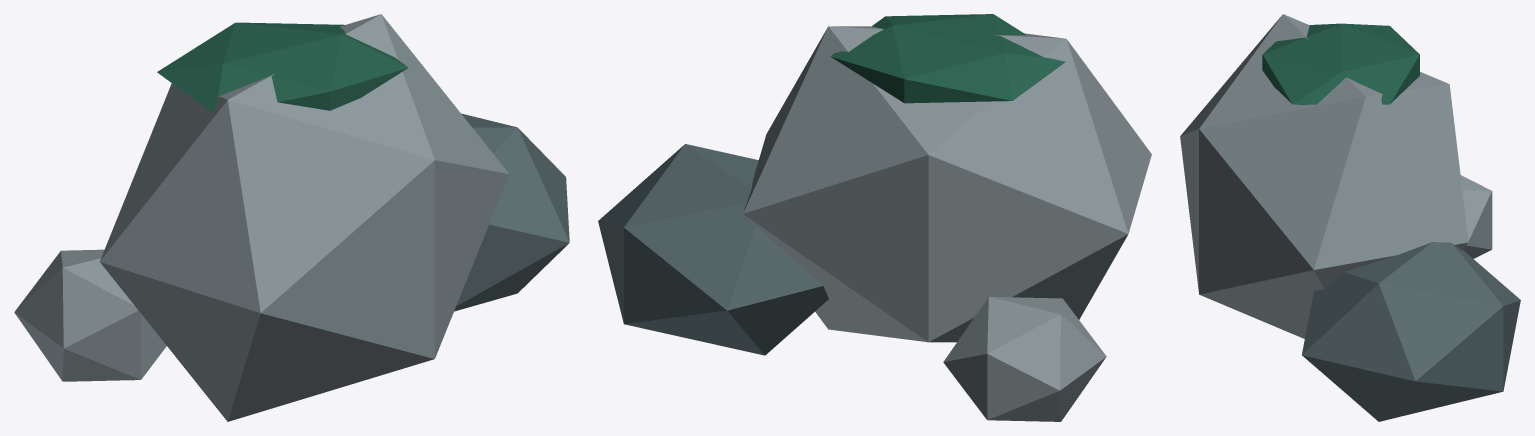
Rendered from rock-cluster.glb.
The picture shows the model from 3 angles, left to right: view 1: azimuth 30°, elevation 25°; view 2: azimuth 150°, elevation 25°; view 3: azimuth 270°, elevation 25°; orthographic projection. The views are drawn at different scales.
Visible parts, largest first — view 1: main-boulder, moss, small-stone, low-boulder; view 2: main-boulder, low-boulder, small-stone, moss; view 3: main-boulder, low-boulder, moss, small-stone.
Part boxes in pixels (x1=…): main-boulder: x1=99, y1=14, x2=509, y2=421; moss: x1=157, y1=22, x2=408, y2=113; small-stone: x1=14, y1=249, x2=166, y2=381; low-boulder: x1=454, y1=113, x2=569, y2=311; main-boulder: x1=743, y1=26, x2=1151, y2=342; low-boulder: x1=598, y1=144, x2=828, y2=355; small-stone: x1=943, y1=296, x2=1106, y2=421; moss: x1=830, y1=14, x2=1065, y2=103; main-boulder: x1=1180, y1=14, x2=1468, y2=338; low-boulder: x1=1302, y1=242, x2=1520, y2=421; moss: x1=1262, y1=23, x2=1419, y2=104; small-stone: x1=1460, y1=175, x2=1492, y2=258.
Size of the model in its own units: 1.79 by 1.08 by 1.22.
